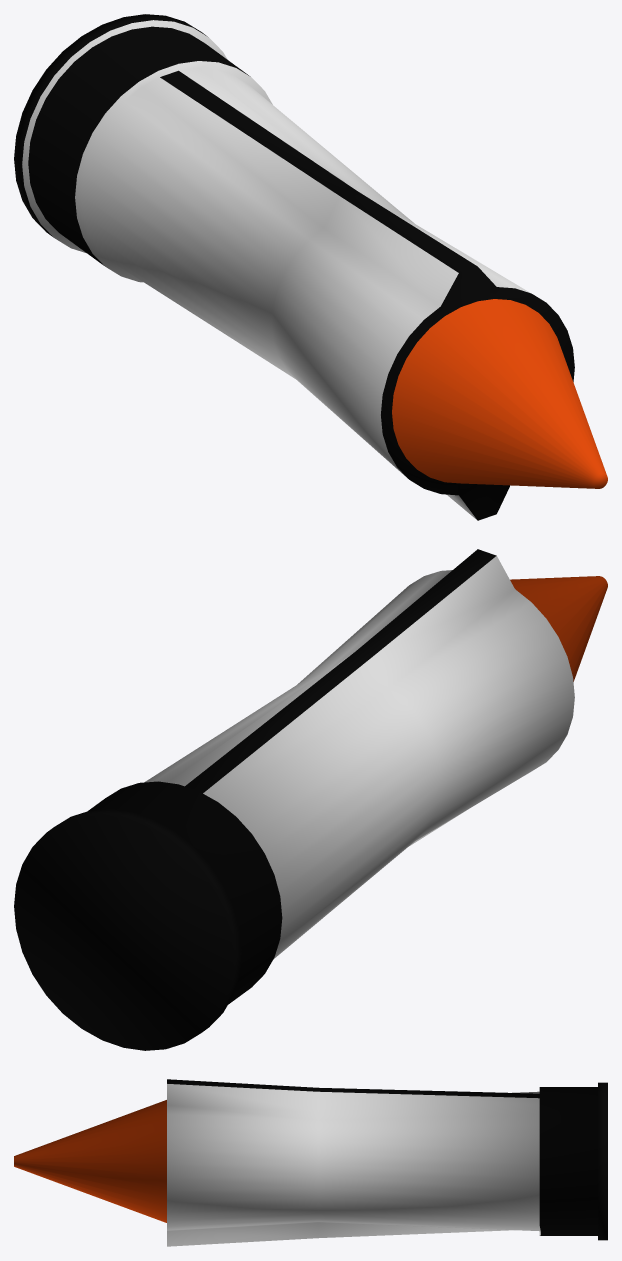
File: CalibrProjectile.fbx
3 views of the same model, one above another, from view 1: azimuth 30°, elevation 25°; view 2: azimuth 150°, elevation 25°; view 3: azimuth 270°, elevation 25° (orthographic). The views are drawn at different scales.
Visible parts, largest first — view 1: ProjectileCalibr; view 2: ProjectileCalibr; view 3: ProjectileCalibr.
Boxes of the visible parts, x1=… form: ProjectileCalibr: x1=14, y1=14, x2=607, y2=520; ProjectileCalibr: x1=14, y1=549, x2=607, y2=1050; ProjectileCalibr: x1=14, y1=1079, x2=607, y2=1246.
Size of the model in its own units: 80.15 by 88.74 by 302.
